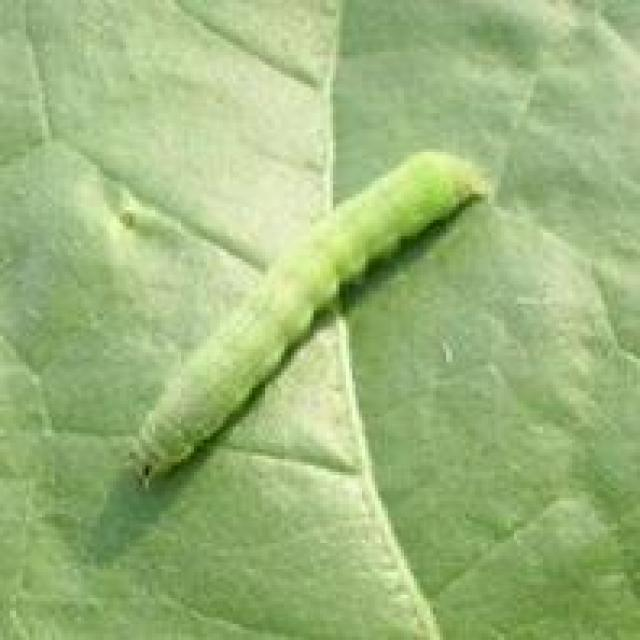BeetArmyWorm-Larva-: (120, 141, 498, 494)
